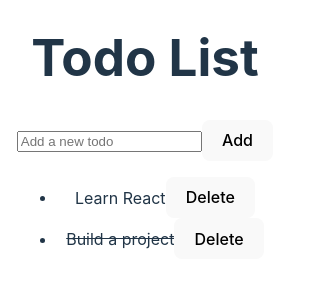
Scenario: TodoList Component › allows users to add a new todo
Step 1. Type "Write tests" into the field with placeholder "Add a new todo" → (109, 142), box [17,131,202,152]
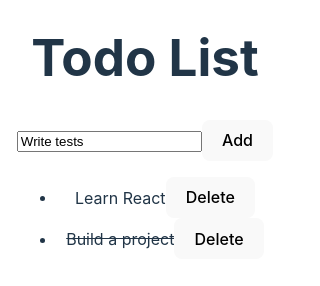
Step 2. Click the button "Add" → (238, 140), box [202,120,273,161]
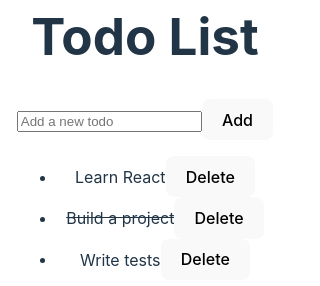
Now the text "Write tests" is shown, box [80,249,161,269]
